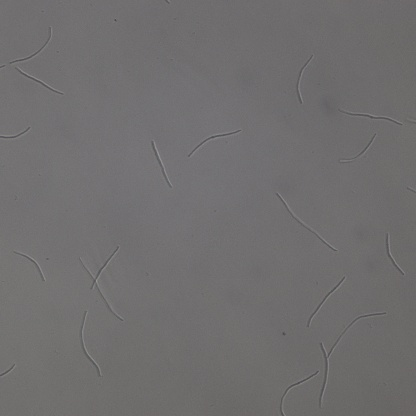Sensitive: (318, 310, 388, 406), (276, 194, 336, 251), (78, 246, 122, 321), (72, 310, 100, 377), (307, 277, 345, 324), (278, 371, 318, 415), (7, 29, 50, 64), (189, 129, 241, 156), (16, 68, 62, 94), (341, 133, 377, 161), (14, 250, 44, 281), (339, 109, 401, 124), (296, 56, 314, 103), (152, 142, 170, 186), (385, 232, 403, 276), (1, 127, 29, 146)
